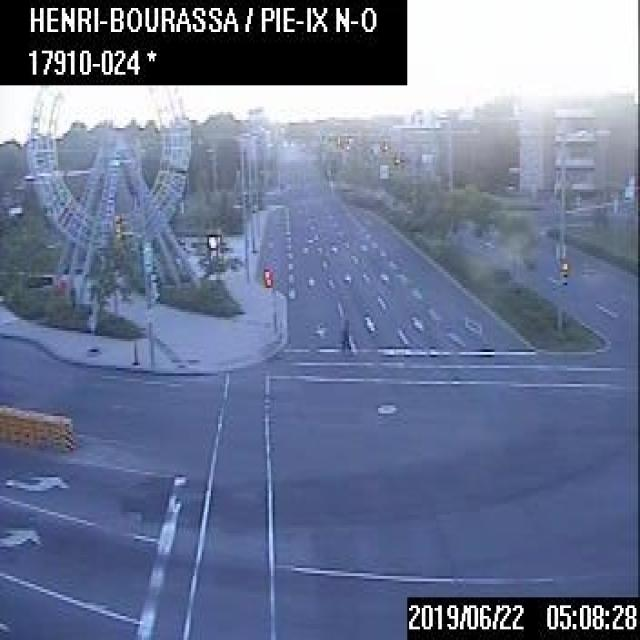pedestrian: (338, 317, 351, 352)
